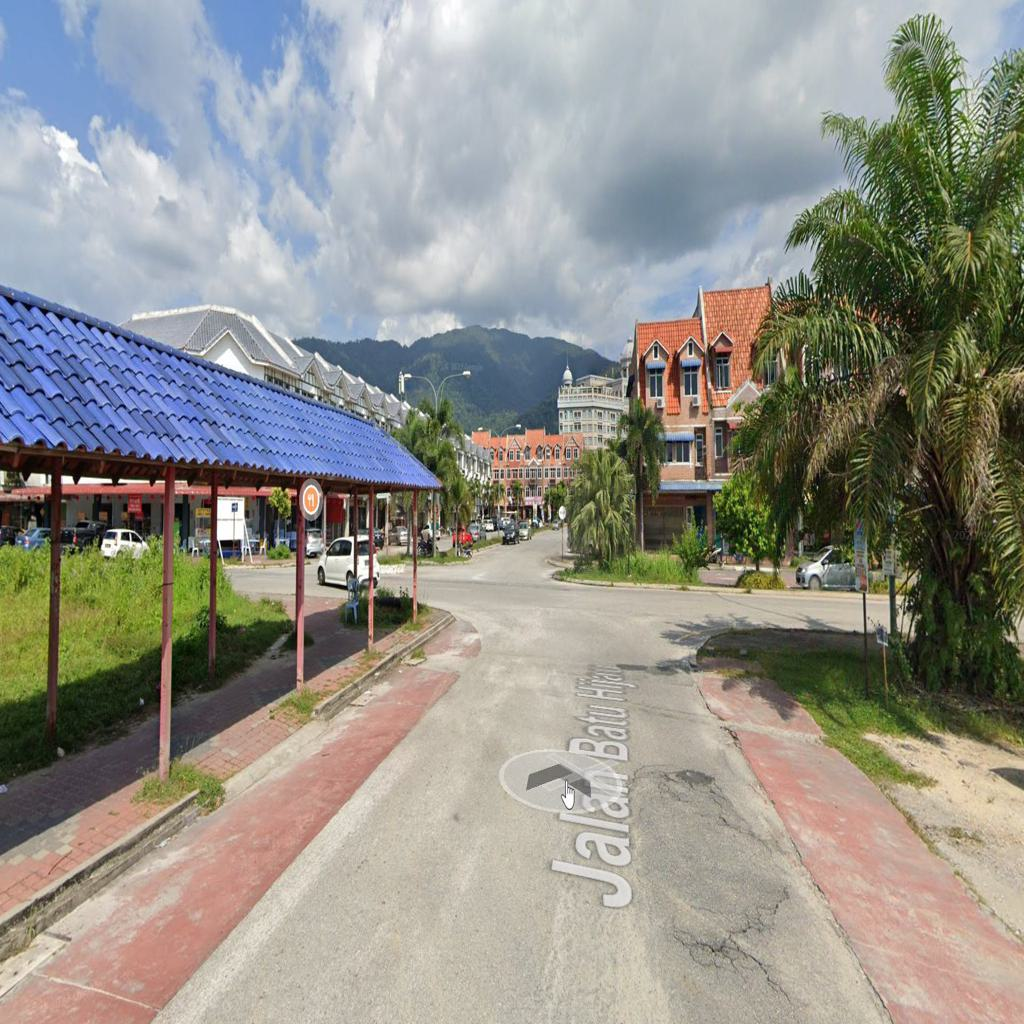Junction: (649, 564, 908, 706), (229, 520, 470, 652)
